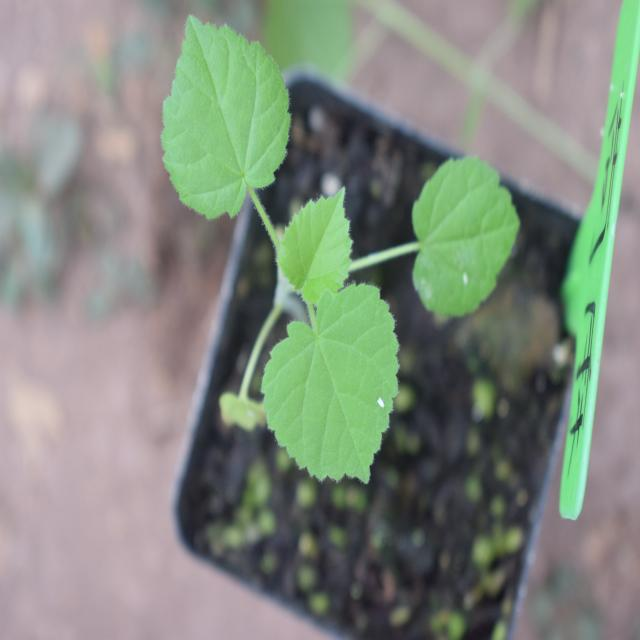abutilon theophrasti: (165, 14, 524, 503)
